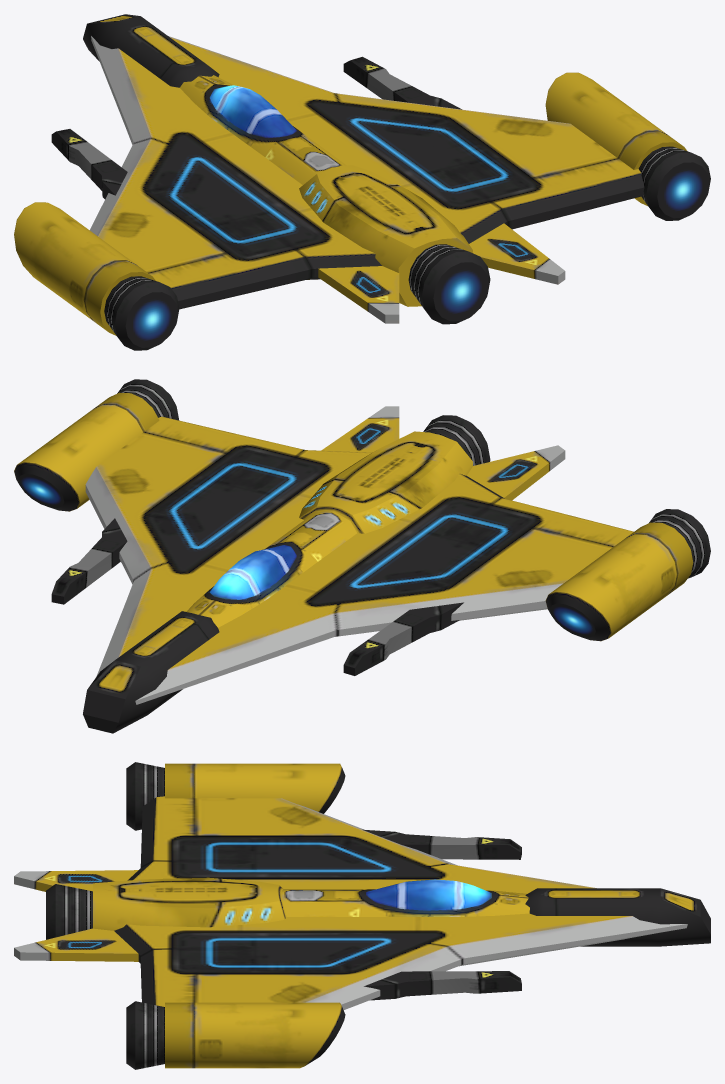
Rendered from defender3.gltf.
The picture shows the model from 3 angles, top to bottom: view 1: azimuth 30°, elevation 25°; view 2: azimuth 150°, elevation 25°; view 3: azimuth 270°, elevation 25°; orthographic projection. The views are drawn at different scales.
Visible parts, largest first — view 1: defender3; view 2: defender3; view 3: defender3.
Boxes of the visible parts, <box> form: defender3: <box>14,14,710,350</box>; defender3: <box>14,379,710,733</box>; defender3: <box>14,762,710,1069</box>.
Size of the model in its own units: 11.95 by 1.5 by 13.12.
Materials: 1 (1 with a texture image).
